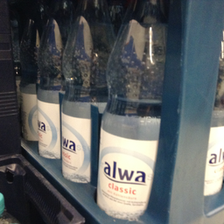water: (96, 1, 167, 220), (61, 1, 115, 184), (37, 3, 61, 161)
